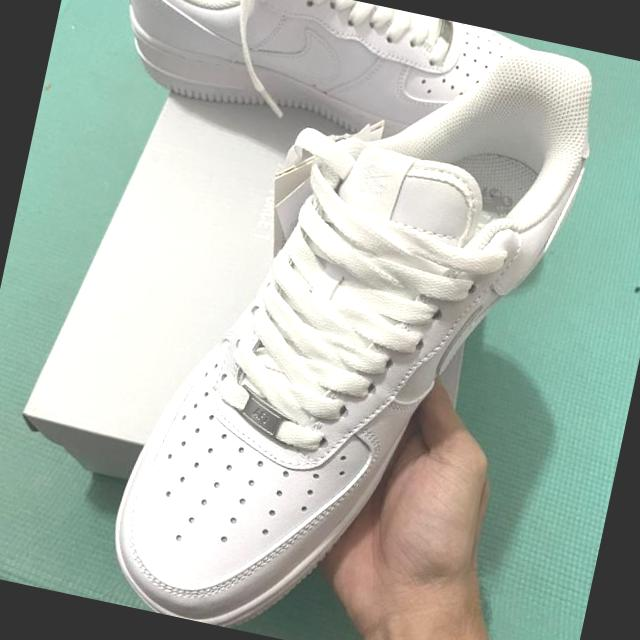nike_original_airforce: (94, 0, 613, 640), (95, 0, 563, 183)
